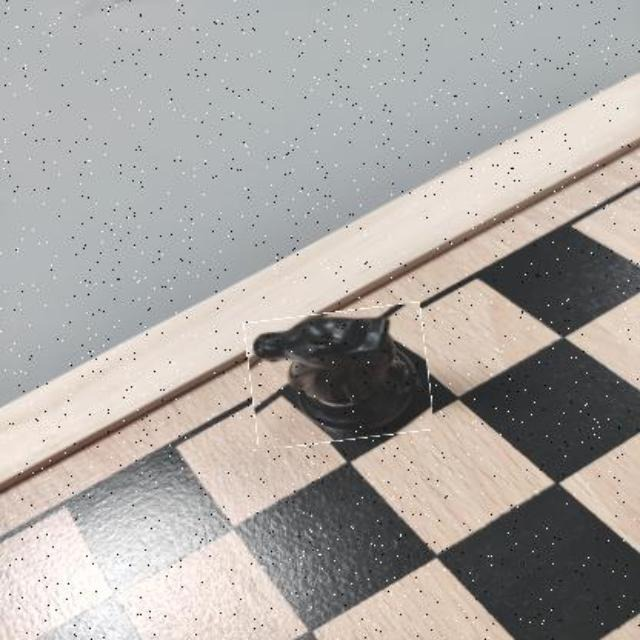black-knight: (247, 307, 431, 445)
